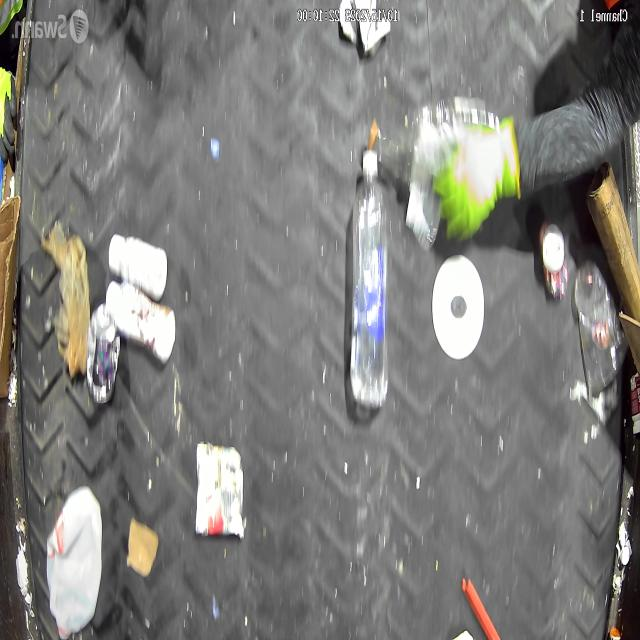can: (196, 442, 244, 540), (86, 303, 120, 403), (538, 222, 569, 304)
milk_jug: (44, 486, 102, 632)
plastic_bottle: (343, 155, 389, 416)
